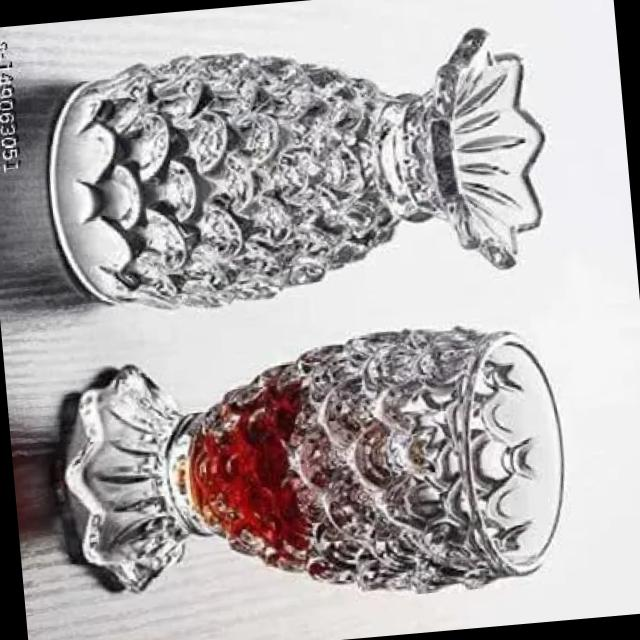glass: (25, 9, 634, 638), (28, 303, 624, 633), (18, 6, 575, 346)
